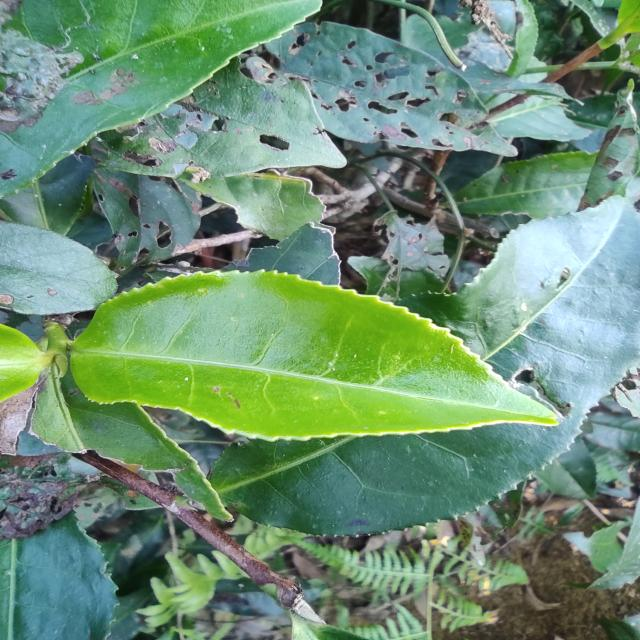Category B(2-4 days): (71, 264, 571, 448)
